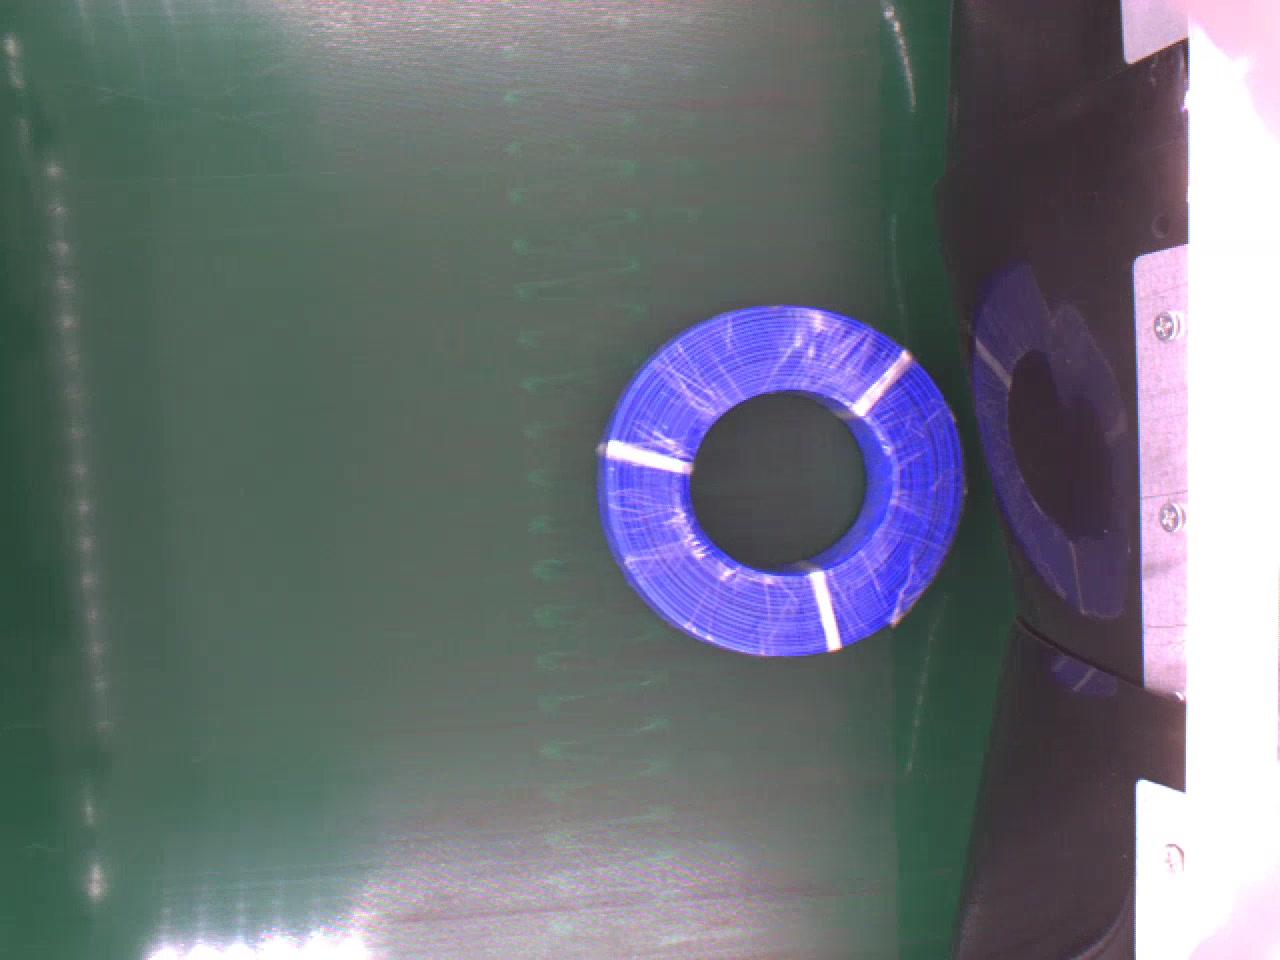blue: (596, 302, 966, 659)
